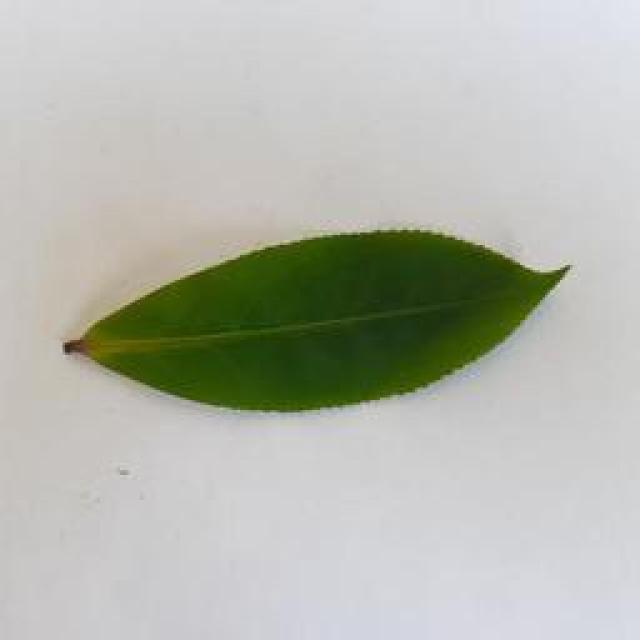Healthy: (35, 224, 619, 429)
